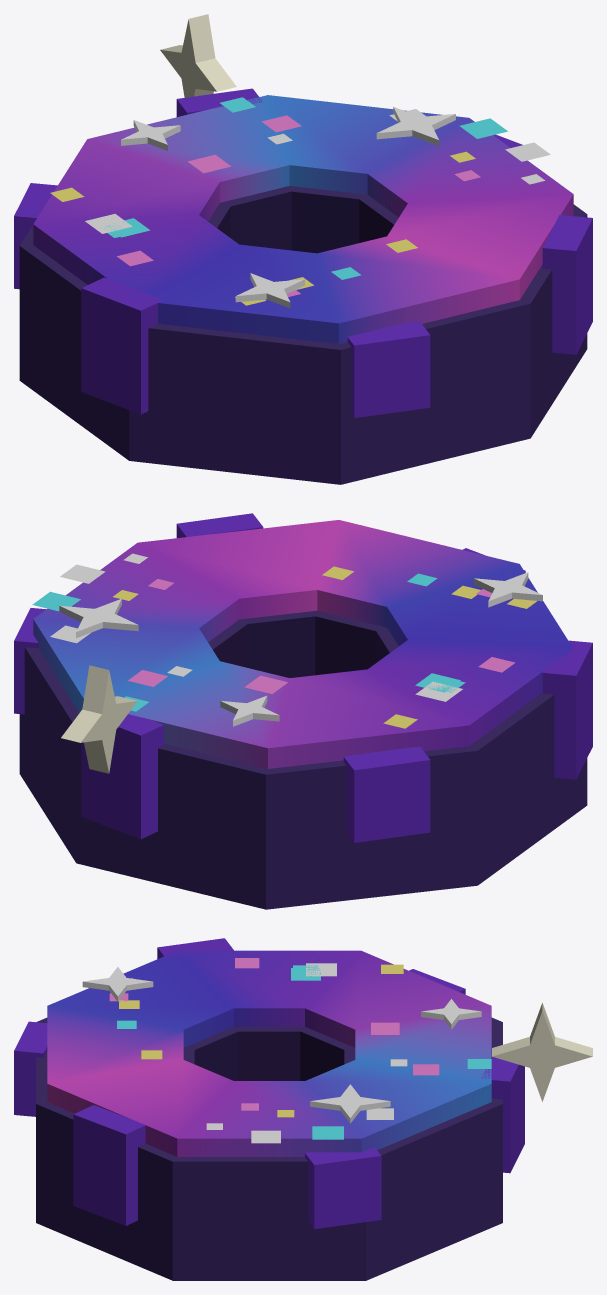
File: galaxy_donut.glb
3 renders of one model, top to bottom at view 1: azimuth 30°, elevation 25°; view 2: azimuth 150°, elevation 25°; view 3: azimuth 270°, elevation 25°, orthographic. The views are drawn at different scales.
Parts seen in each view (by area): view 1: galaxy_donut; view 2: galaxy_donut; view 3: galaxy_donut.
Boxes of the visible parts, x1=… form: galaxy_donut: x1=14, y1=14, x2=592, y2=484; galaxy_donut: x1=14, y1=513, x2=592, y2=909; galaxy_donut: x1=14, y1=938, x2=592, y2=1280.
Size of the model in its own units: 0.4356 by 0.1877 by 0.5.
